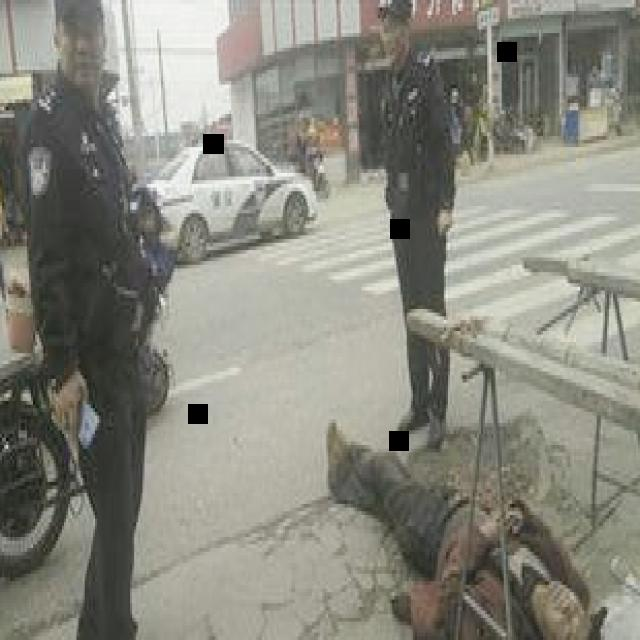Fall-Detected: (326, 390, 607, 640)
